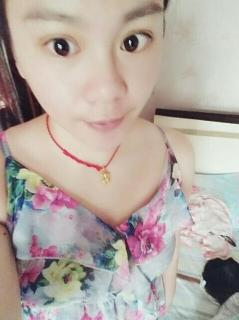sling: (2, 125, 196, 319)
